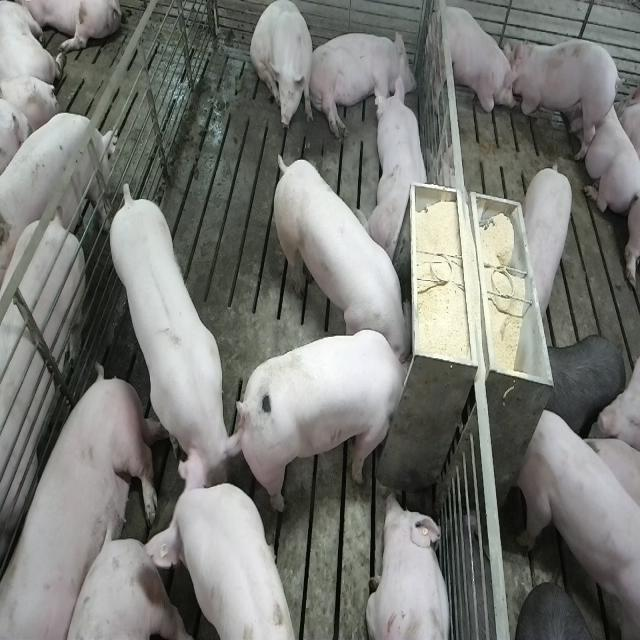Feeding: (243, 329, 419, 515), (269, 145, 411, 361)
Lateral_lying: (3, 366, 165, 640), (307, 27, 417, 140)
Sitting: (251, 3, 315, 137)
Standing: (108, 183, 245, 500), (0, 209, 87, 596), (517, 400, 638, 635), (162, 468, 301, 640), (0, 105, 116, 279), (508, 34, 619, 158), (431, 1, 518, 132), (522, 160, 577, 320), (544, 332, 626, 438)
Sternal_lying: (362, 78, 432, 264), (366, 490, 452, 640), (579, 82, 639, 212)
